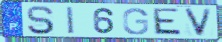6: (92, 7, 116, 35)
E: (152, 7, 184, 37)
G: (121, 7, 150, 36)
I: (65, 6, 76, 36)
S: (26, 5, 56, 36)
V: (182, 7, 214, 38)
